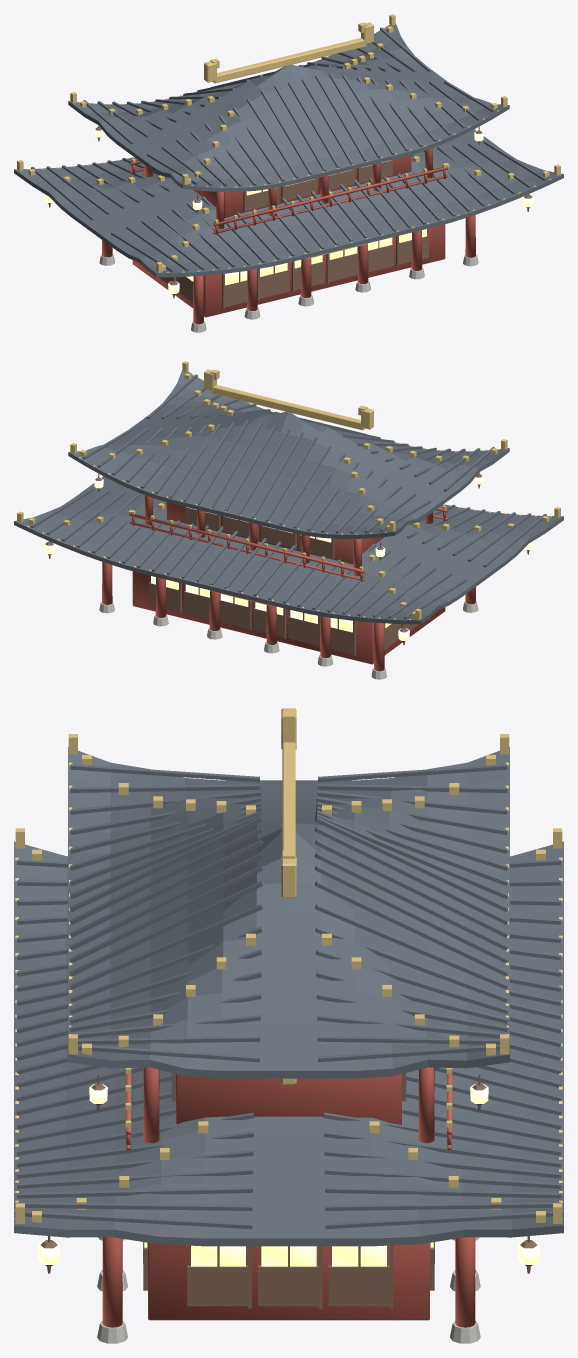
The model's file is shuitingmen-pavilion.glb.
3 views of the same model, one above another, from view 1: azimuth 30°, elevation 25°; view 2: azimuth 150°, elevation 25°; view 3: azimuth 270°, elevation 25° (orthographic). The views are drawn at different scales.
Visible parts, largest first — view 1: pav_tile, pav_red, pav_wood, pav_gold, pav_glow, pav_stone; view 2: pav_tile, pav_red, pav_wood, pav_gold, pav_glow, pav_stone; view 3: pav_tile, pav_red, pav_gold, pav_wood, pav_glow, pav_stone.
Part boxes in pixels (x1,y1,x2,y2): pav_tile: (14,23,563,277); pav_red: (102,148,475,324); pav_wood: (48,125,532,308); pav_gold: (17,14,560,272); pav_glow: (44,127,533,293); pav_stone: (99,254,478,332); pav_tile: (14,370,563,624); pav_red: (102,495,475,671); pav_wood: (45,472,529,655); pav_gold: (17,361,560,619); pav_glow: (44,474,533,640); pav_stone: (99,601,478,679); pav_tile: (14,747,563,1246); pav_red: (102,1067,475,1327); pav_gold: (15,708,562,1223); pav_wood: (40,1073,537,1308); pav_glow: (37,1084,540,1266); pav_stone: (97,1237,480,1343).
Bounding box in the file's own units: 25.76 × 13.31 × 15.59.
